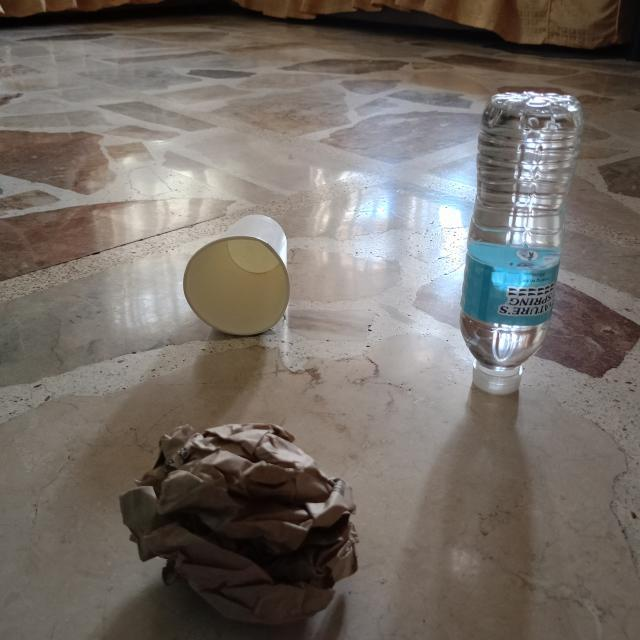recyclable waste: (105, 414, 371, 640), (448, 79, 594, 402), (173, 206, 301, 344)
